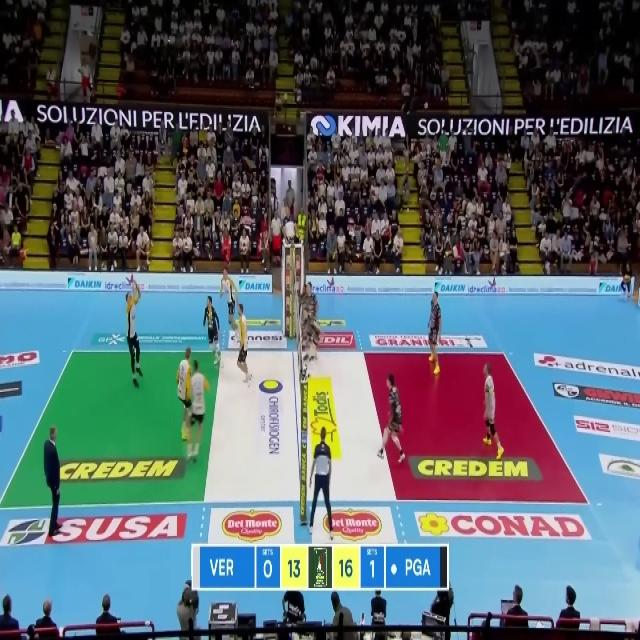volleyball court: (0, 353, 590, 507)
